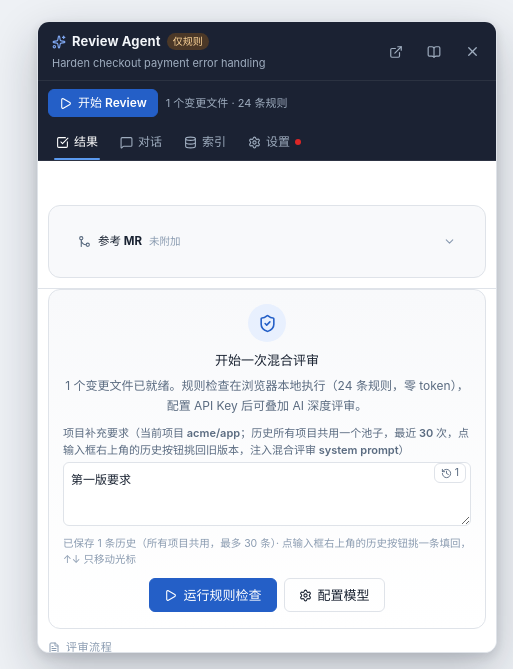
Scenario: 起始页项目补充要求历史 › 清空后失焦：当前值不再注入，历史保留可以从列表捞回来
Expected: the text "开始一次混合评审" is shown, [215,352,319,368]
Expected: the button "开始 Review" is enabled, [48,89,158,117]
Clear the text box named "项目补充要求" at point(267, 494), box [63,462,471,526]
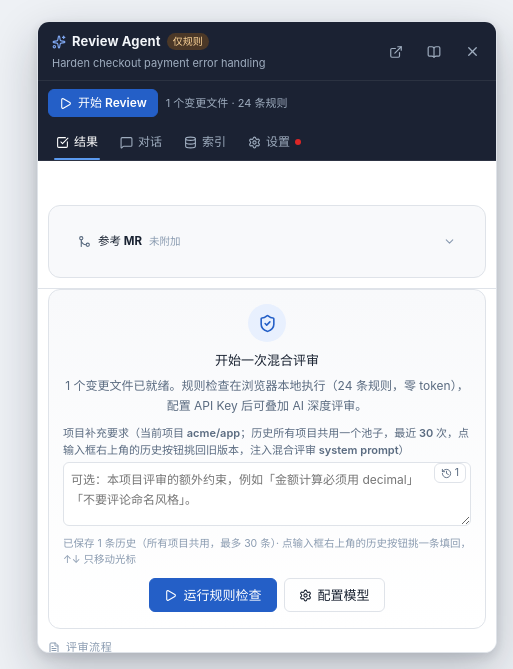
Click the button named "项目补充要求历史" at point(450, 473), box [434,463,466,483]
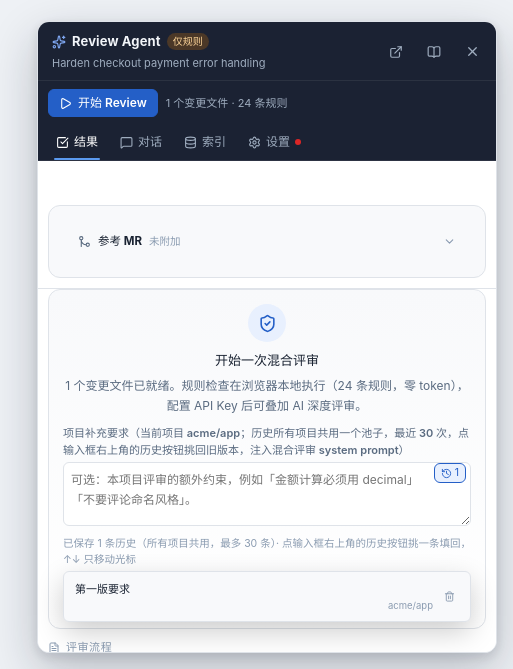
Click the option "第一版要求 acme/app" at point(102, 589), box [68,576,466,617]
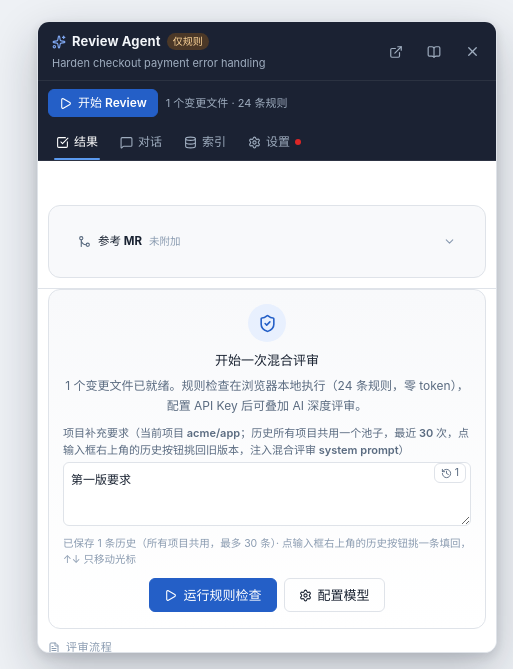
Result: the text box named "项目补充要求" holds "第一版要求" at [63,462,471,526]
